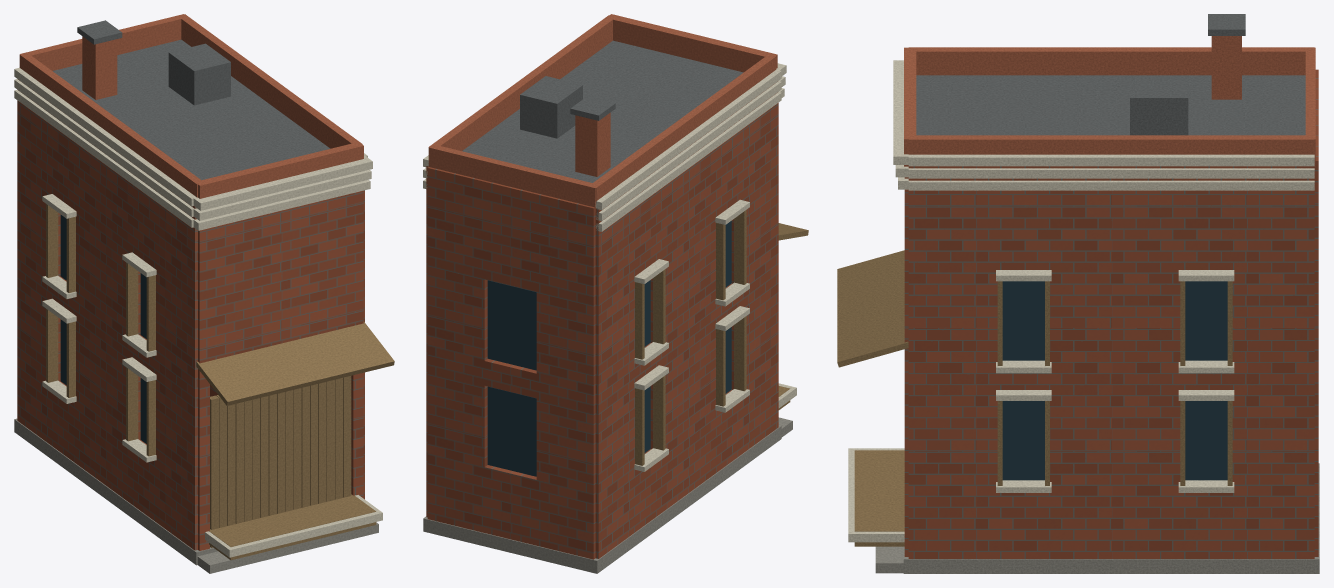
File: WHSE23_lod2.glb
3 views of the same model, side by side, from view 1: azimuth 30°, elevation 25°; view 2: azimuth 150°, elevation 25°; view 3: azimuth 270°, elevation 25° (orthographic). The views are drawn at different scales.
Parts seen in each view (by area): view 1: WHSE23_LOD2; view 2: WHSE23_LOD2; view 3: WHSE23_LOD2.
Boxes of the visible parts, x1,y1,x2,y2 form: WHSE23_LOD2: (14, 14, 394, 573); WHSE23_LOD2: (423, 14, 808, 573); WHSE23_LOD2: (837, 14, 1319, 573).
Bounding box in the file's own units: 3.71 × 7.85 × 7.13.
Materials: 7 (6 with a texture image).
